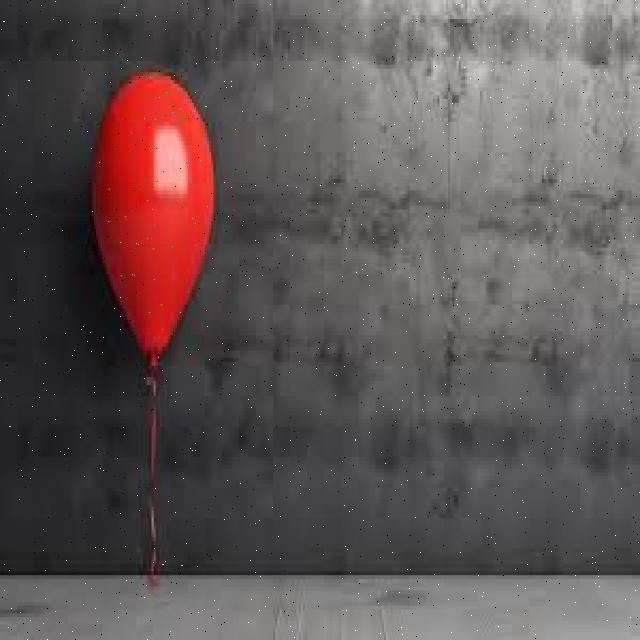red: (85, 64, 222, 369)
